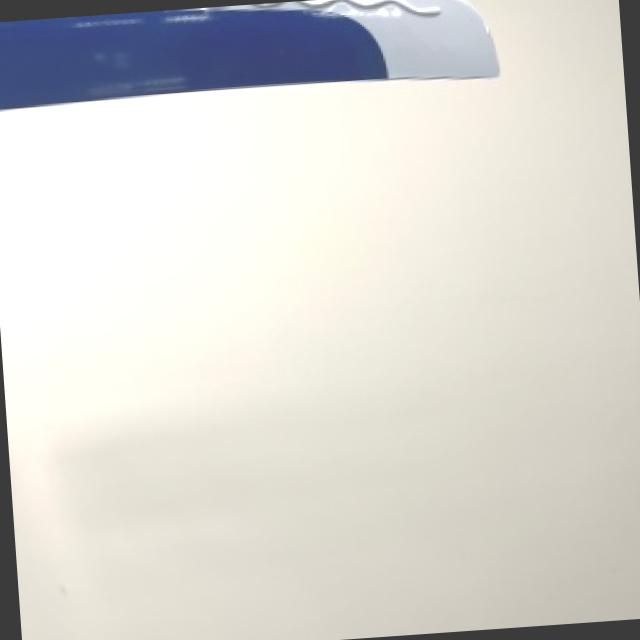healthy: (0, 0, 501, 105)
